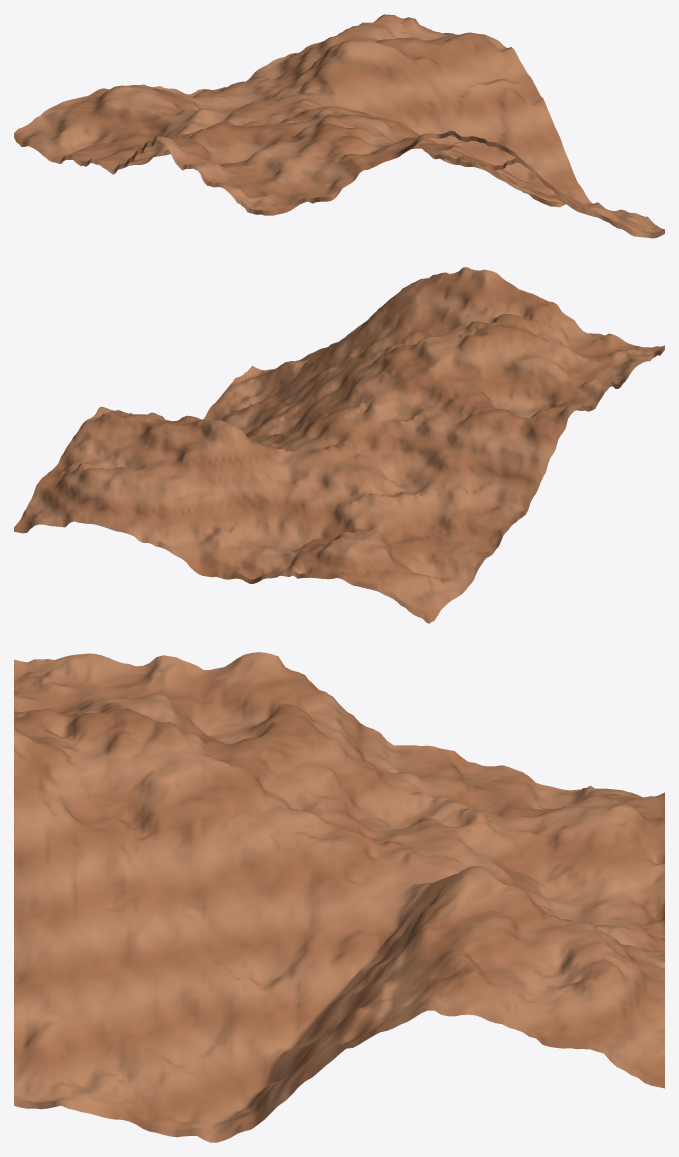
The model's file is terrain-031.glb.
The picture shows the model from 3 angles, top to bottom: view 1: azimuth 30°, elevation 25°; view 2: azimuth 150°, elevation 25°; view 3: azimuth 270°, elevation 25°; orthographic projection. The views are drawn at different scales.
Parts seen in each view (by area): view 1: terrain-031; view 2: terrain-031; view 3: terrain-031.
Boxes of the visible parts, <box> form: terrain-031: <box>14,14,664,238</box>; terrain-031: <box>14,267,664,623</box>; terrain-031: <box>14,652,664,1142</box>.
Size of the model in its own units: 384 by 164 by 384.
